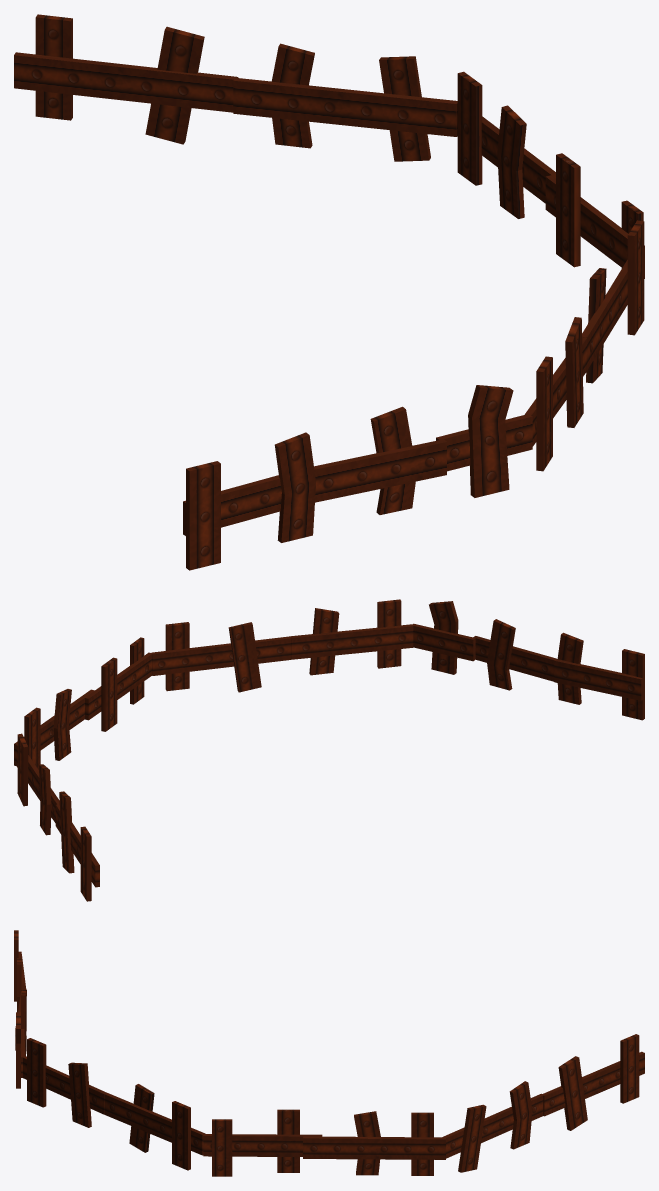
Rendered from SM_world 3_fence_01.fbx.
3 renders of one model, top to bottom at view 1: azimuth 30°, elevation 25°; view 2: azimuth 150°, elevation 25°; view 3: azimuth 270°, elevation 25°, orthographic. The views are drawn at different scales.
Visible parts, largest first — view 1: Cube.002; view 2: Cube.002; view 3: Cube.002.
Boxes of the visible parts, x1=… form: Cube.002: x1=14, y1=14, x2=644, y2=570; Cube.002: x1=14, y1=599, x2=644, y2=901; Cube.002: x1=14, y1=930, x2=644, y2=1176.
Bounding box in the file's own units: 1960 × 2783 × 355.
